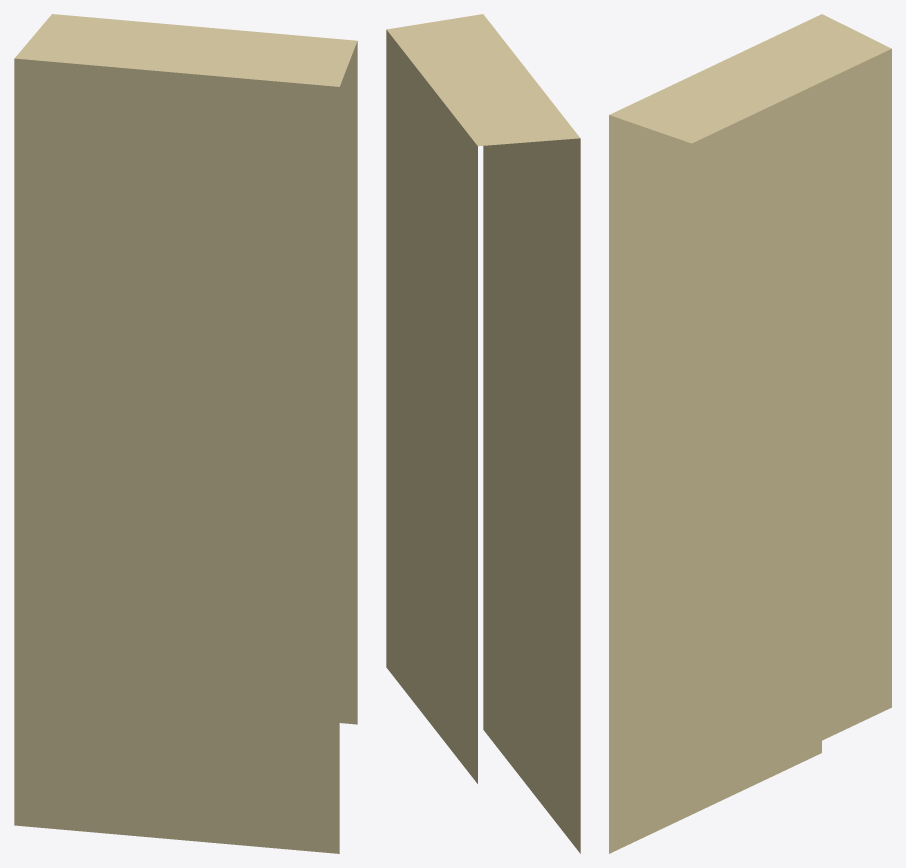
Rendered from wall6.fbx.
3 views of the same model, side by side, from view 1: azimuth 30°, elevation 25°; view 2: azimuth 150°, elevation 25°; view 3: azimuth 270°, elevation 25° (orthographic). The views are drawn at different scales.
Parts seen in each view (by area): view 1: duvar.031; view 2: duvar.031; view 3: duvar.031.
Boxes of the visible parts, x1,y1,x2,y2 form: duvar.031: (14, 14, 357, 853); duvar.031: (386, 14, 580, 853); duvar.031: (609, 14, 891, 853).
Size of the model in its own units: 16.92 by 44.99 by 15.6.
